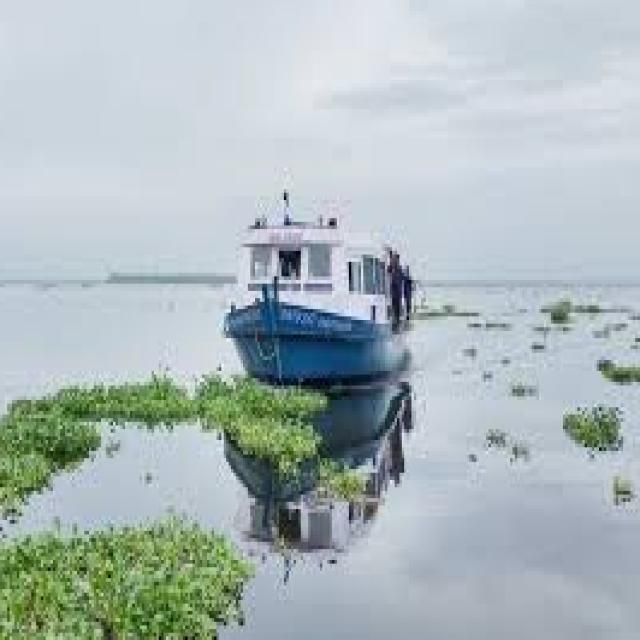houseboat: (212, 171, 416, 419)
